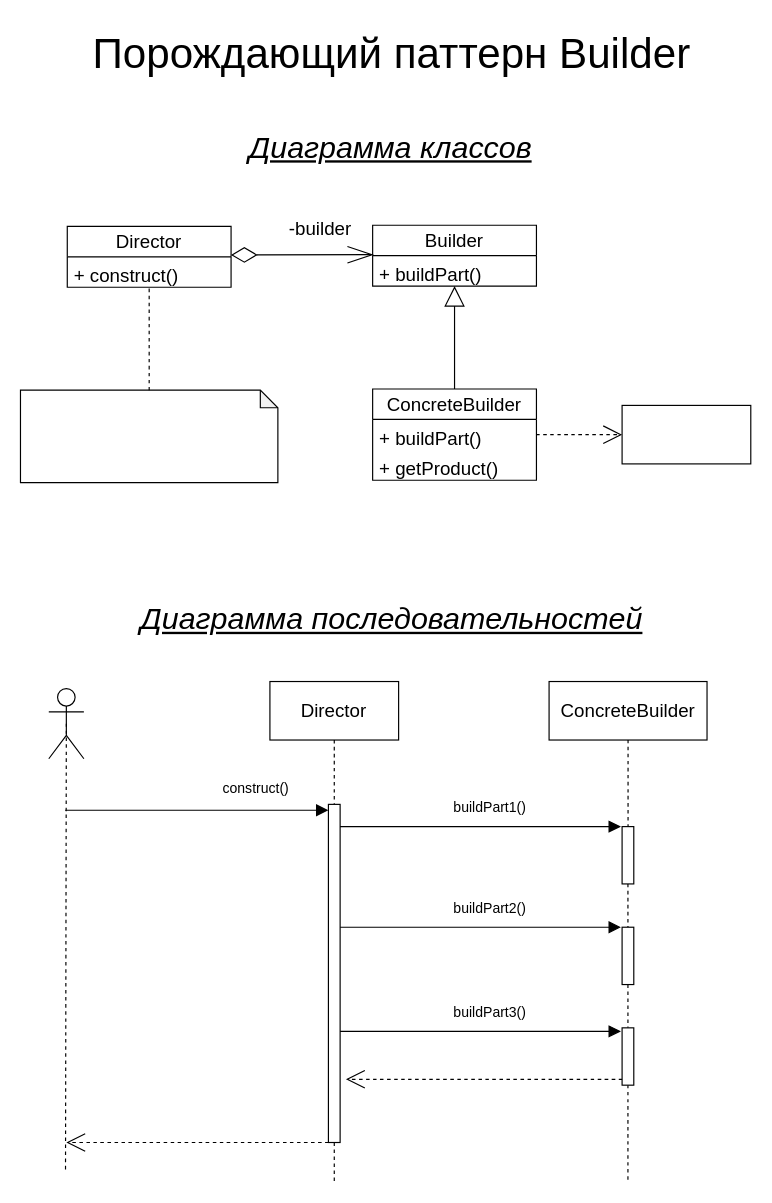
Some shapes in this 772 by 1203 pixel diagram are drawn without their labels. Each missing label, with the centre of its shape:
Client: the point at 66,723
Product: the point at 686,434
Строить каждую часть продукта с помощью builder->buildPart(): the point at 148,436
